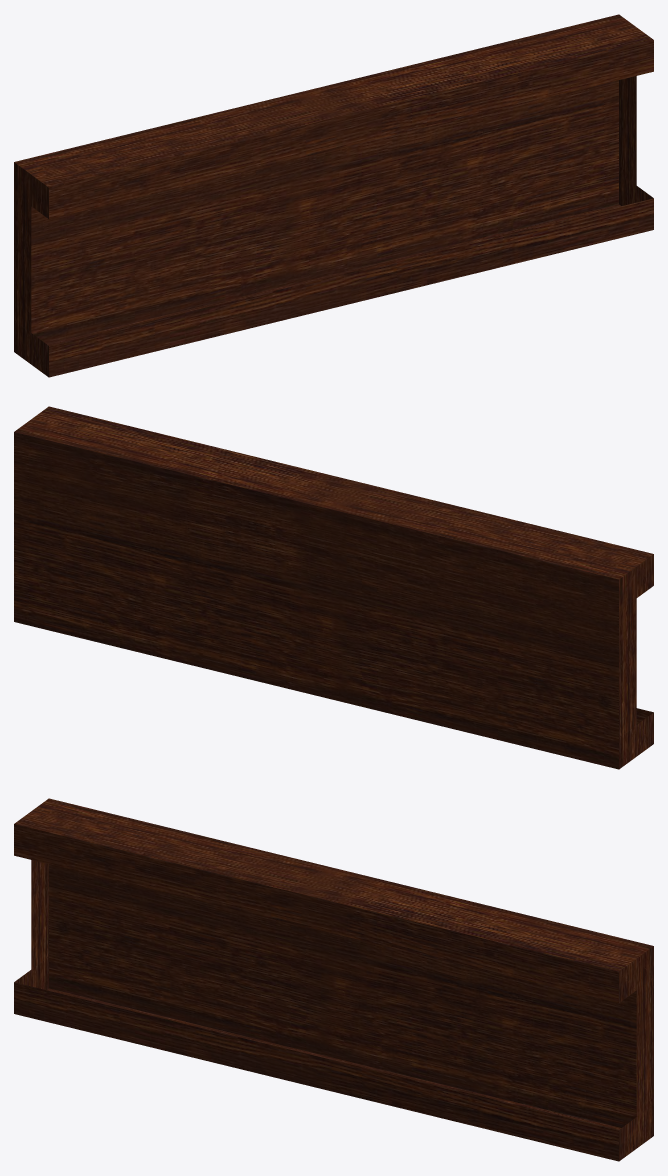
Rendered from border_quarter.fbx.
3 views of the same model, one above another, from view 1: azimuth 30°, elevation 25°; view 2: azimuth 150°, elevation 25°; view 3: azimuth 330°, elevation 25° (orthographic).
Visible parts, largest first — view 1: border_quarter; view 2: border_quarter; view 3: border_quarter.
Boxes of the visible parts, <box> form: border_quarter: <box>14,14,653,377</box>; border_quarter: <box>14,406,653,769</box>; border_quarter: <box>14,798,653,1161</box>.
Size of the model in its own units: 200 by 60 by 20.
